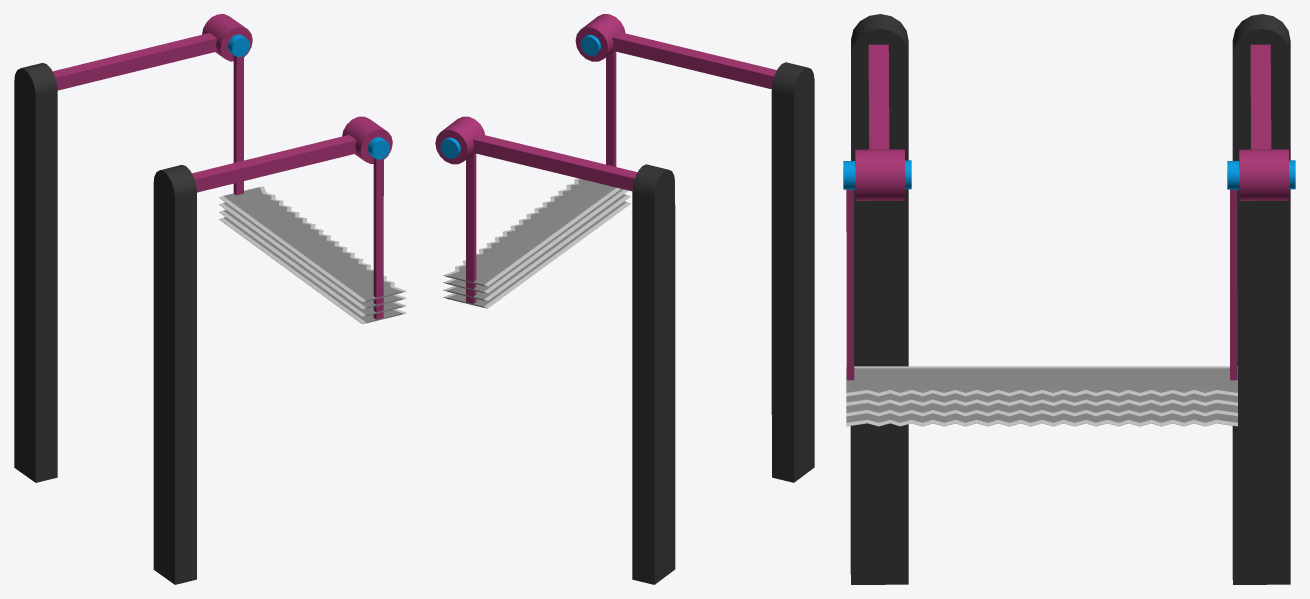
The model's file is _rap_013.fbx.
The picture shows the model from 3 angles, left to right: view 1: azimuth 30°, elevation 25°; view 2: azimuth 150°, elevation 25°; view 3: azimuth 270°, elevation 25°; orthographic projection. The views are drawn at different scales.
Parts seen in each view (by area): view 1: trap_013, trap_013_rotate; view 2: trap_013, trap_013_rotate; view 3: trap_013, trap_013_rotate.
Part boxes in pixels (box(x1,y1,x2,y2)): trap_013: box(14, 14, 392, 584); trap_013_rotate: box(219, 55, 406, 323); trap_013: box(435, 14, 814, 584); trap_013_rotate: box(443, 51, 630, 308); trap_013: box(843, 14, 1295, 584); trap_013_rotate: box(846, 189, 1237, 426).
Size of the model in its own units: 1895 by 3189 by 2352.
